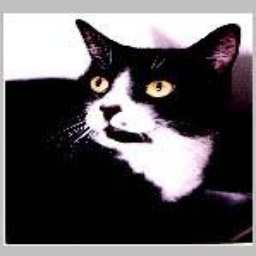cat: (1, 14, 239, 240)
